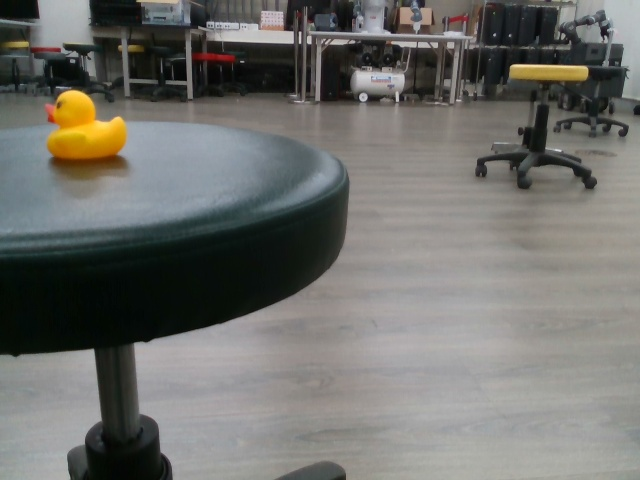duck: (42, 86, 130, 162)
